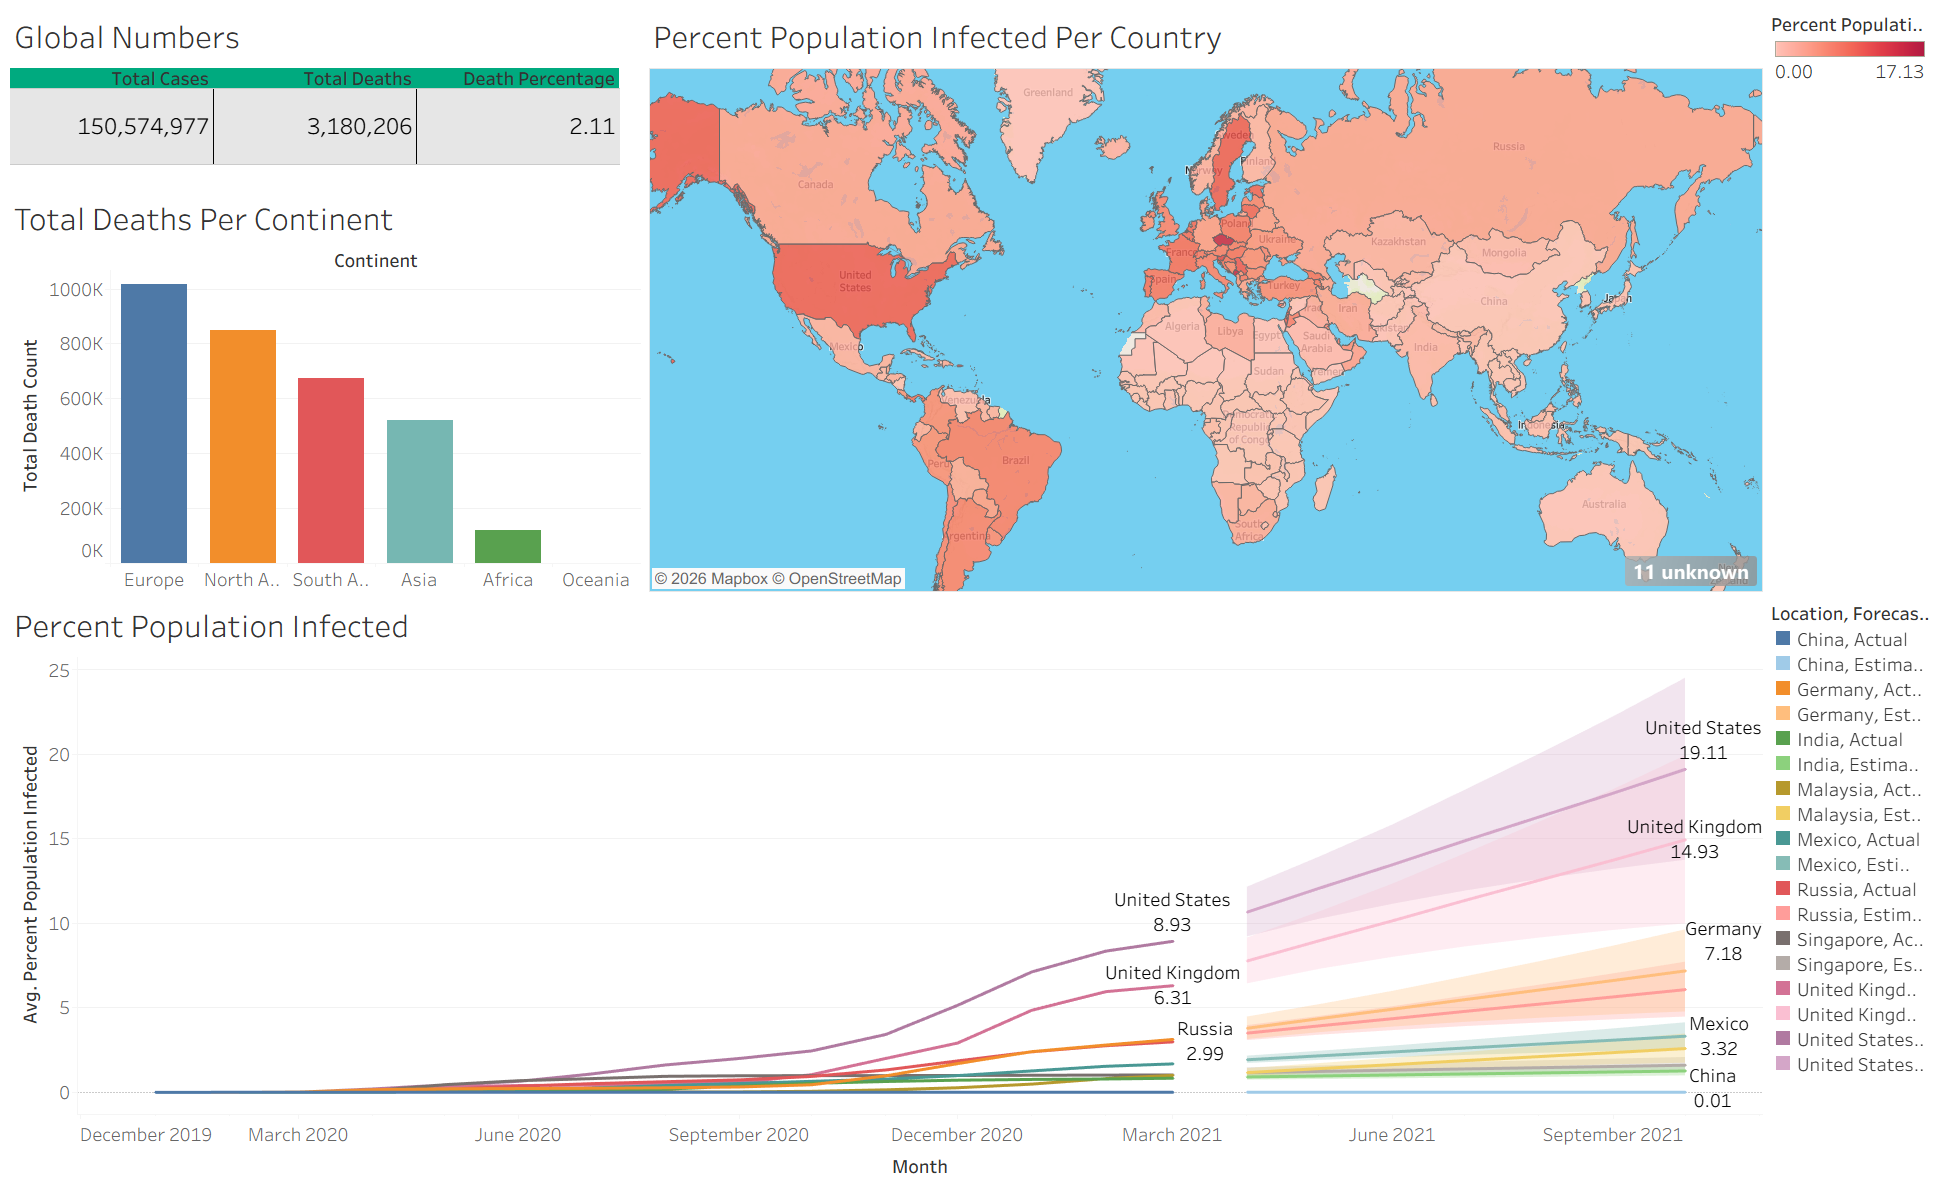

The page's visual inventory and layout, read from the dashboard file:
{"tool":"tableau","page":{"name":"Dashboard 1","canvas":[1000,1000],"units":"permille","ordinal":0},"visuals":[{"type":"worksheet","title":"Sheet 1","mark":"Automatic","box":[4.1,6.7,563.6,242.9]},{"type":"worksheet","title":"Sheet 3","mark":"Automatic","box":[567.7,6.7,342.8,492]},{"type":"legend","title":"Sheet 3","param":"[federated.03wu5pe0i4sgig15c8zh80f3o48a].[sum:PercentPopulationInfected:qk]","box":[910.5,6.7,85.4,491.6]},{"type":"worksheet","title":"Sheet 2","mark":"Automatic","rows":["TotalDeathCount"],"cols":["location"],"box":[4.1,249.6,563.6,249.1]},{"type":"legend","title":"Sheet 4","param":"[federated.1mn6rik1vzwr7q13jso5z162dw4j].[none:Location:nk]\n[federated.1mn6rik1v","box":[910.5,498.3,85.4,495]},{"type":"worksheet","title":"Sheet 4","mark":"Automatic","rows":["PercentPopulationInfected"],"cols":["date"],"box":[4.1,498.7,906.3,494.6]}]}

Visuals, with their boxes on the dashboard's canvas, which has no fixed pixel size, in thousandths of its width and height (x1, y1, x2, y2). These are canvas units, not pixel positions in the 1939x1189 screenshot, which may show the page scaled, cropped or inside an application window:
"Sheet 1" worksheet: box(4, 7, 568, 250)
"Sheet 3" worksheet: box(568, 7, 910, 499)
"Sheet 3" legend: box(910, 7, 996, 498)
"Sheet 2" worksheet: box(4, 250, 568, 499)
"Sheet 4" legend: box(910, 498, 996, 993)
"Sheet 4" worksheet: box(4, 499, 910, 993)
